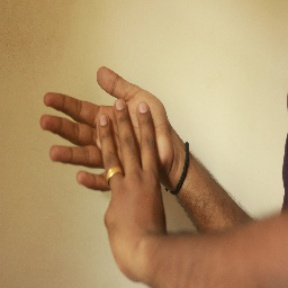M: (35, 58, 189, 216)
